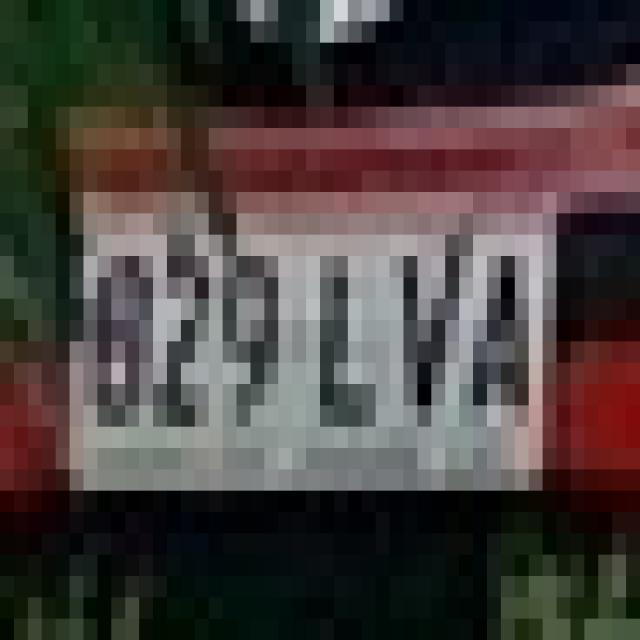LicensePlate: (58, 177, 558, 516)
